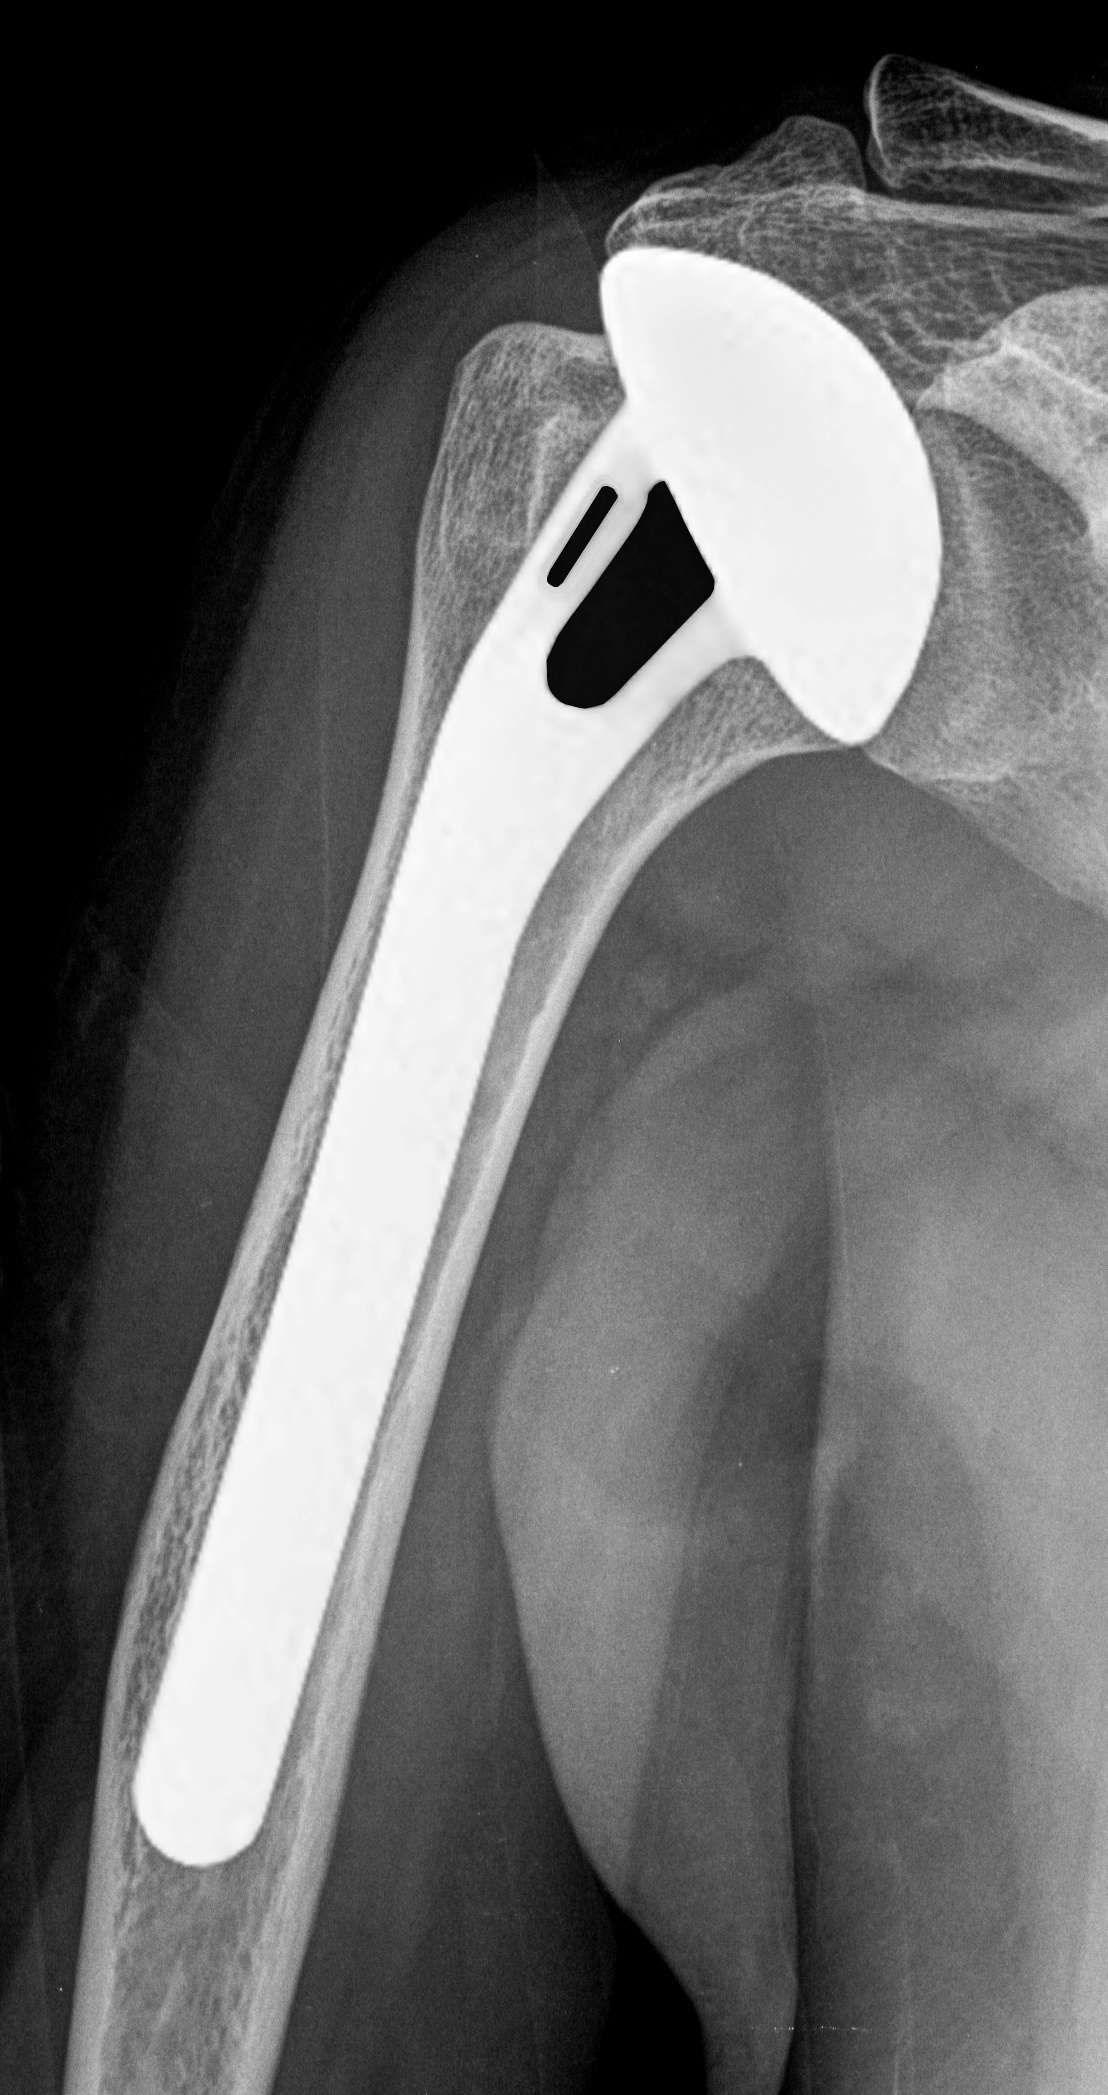Shoulder - AequalisFracture - Tornier: (521, 236, 974, 786)
